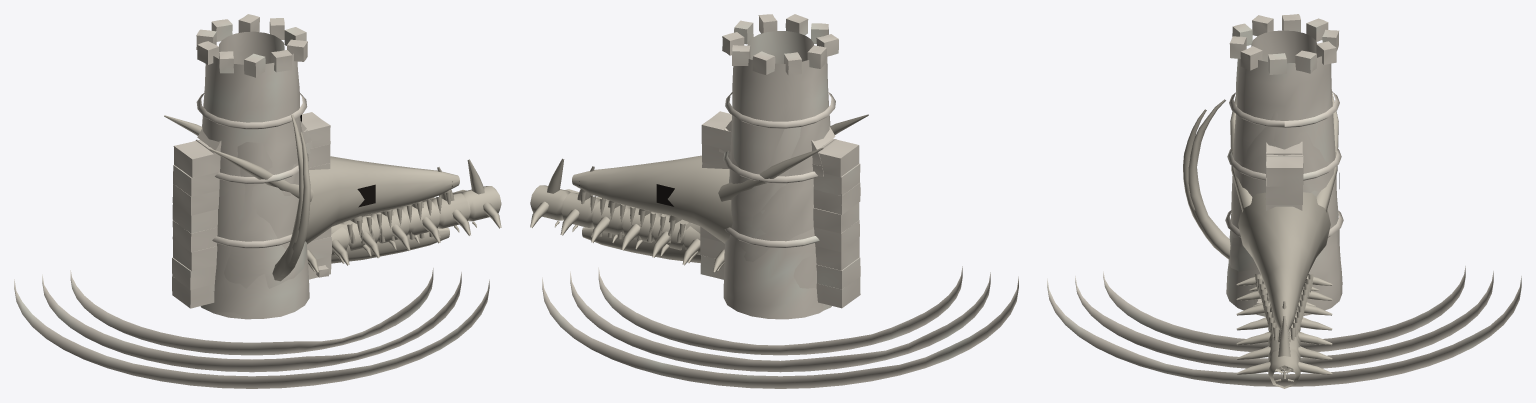
File: world_ruins.glb
The picture shows the model from 3 angles, left to right: view 1: azimuth 30°, elevation 25°; view 2: azimuth 150°, elevation 25°; view 3: azimuth 270°, elevation 25°; orthographic projection.
Parts seen in each view (by area): view 1: tower0, steps0, skull0, arch0, spine0, tower1, rib1, rib0; view 2: tower0, steps0, skull0, arch0, tower1, spine0; view 3: tower0, steps0, skull0, tower1, spine0, arch0, rib0, rib1.
Part boxes in pixels (x1,y1,x2,y2): tower0: (196, 14, 309, 319); steps0: (14, 268, 489, 388); skull0: (164, 115, 459, 263); arch0: (172, 112, 331, 308); spine0: (307, 159, 501, 272); tower1: (203, 103, 307, 319); rib1: (280, 132, 310, 276); rib0: (272, 114, 303, 281); tower0: (722, 14, 838, 310); steps0: (542, 266, 1018, 388); skull0: (572, 114, 868, 263); arch0: (700, 111, 860, 308); tower1: (723, 119, 823, 319); spine0: (530, 158, 724, 272); tower0: (1225, 14, 1343, 310); steps0: (1047, 266, 1521, 386); skull0: (1230, 89, 1338, 373); tower1: (1228, 110, 1342, 316); spine0: (1236, 275, 1332, 388); arch0: (1265, 141, 1303, 316); rib0: (1188, 99, 1230, 259); rib1: (1183, 109, 1220, 252).
Size of the model in its own units: 48.05 by 26.29 by 44.
